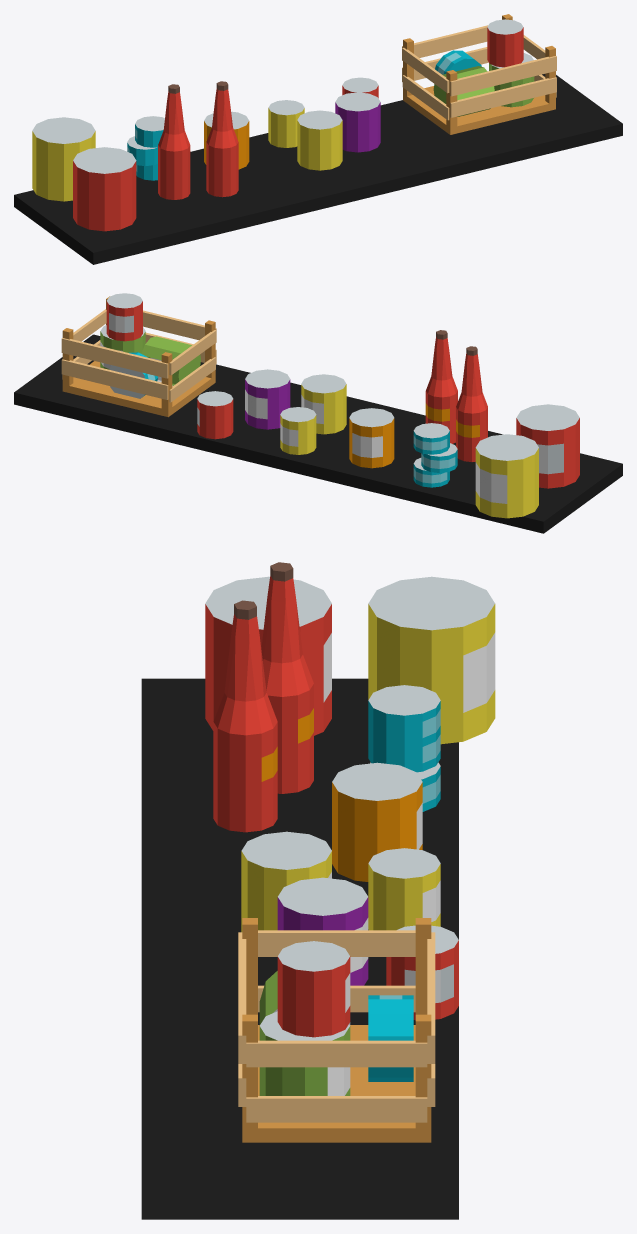
Rendered from shelf2.fbx.
3 renders of one model, top to bottom at view 1: azimuth 30°, elevation 25°; view 2: azimuth 150°, elevation 25°; view 3: azimuth 270°, elevation 25°, orthographic. The views are drawn at different scales.
Parts seen in each view (by area): view 1: Node.004; view 2: Node.004; view 3: Node.004.
Part boxes in pixels (x1,y1,x2,y2): Node.004: [14, 14, 622, 264]; Node.004: [14, 293, 622, 533]; Node.004: [141, 562, 495, 1219].
Bounding box in the file's own units: 67.5 × 15.15 × 19.5.
